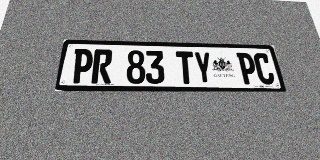3: (146, 50, 164, 84)
8: (126, 50, 145, 84)
C: (253, 53, 276, 85)
P: (70, 49, 94, 83), (236, 53, 259, 84)
R: (91, 49, 113, 84)
T: (176, 51, 196, 84)
Y: (193, 52, 214, 84)
